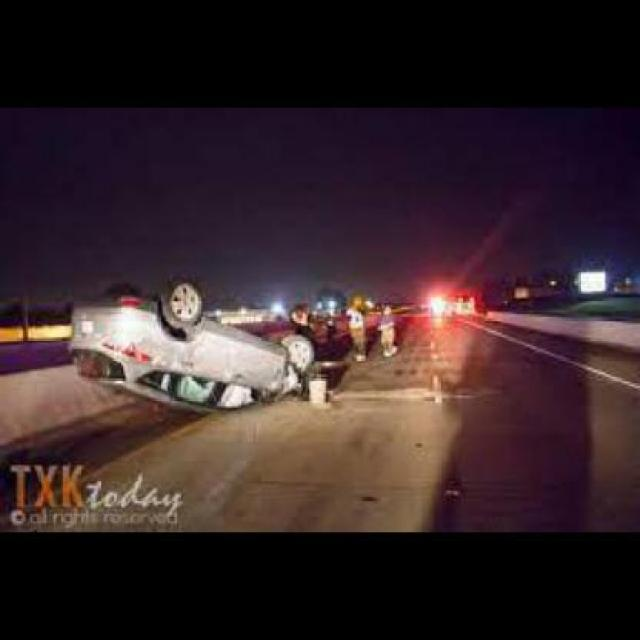accident: (65, 272, 313, 412)
